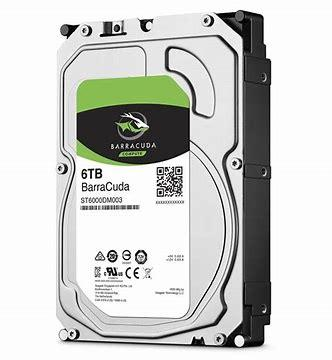internal HDD: (53, 11, 271, 348)
